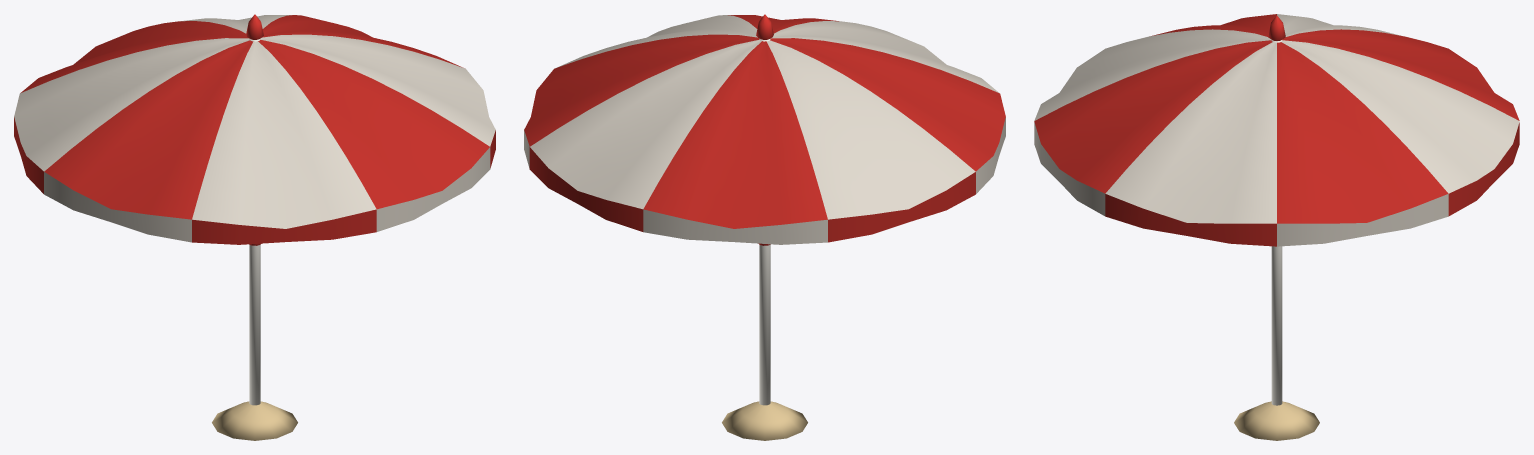
Rendered from umbrella.glb.
3 renders of one model, left to right at view 1: azimuth 30°, elevation 25°; view 2: azimuth 150°, elevation 25°; view 3: azimuth 270°, elevation 25°, orthographic.
Parts seen in each view (by area): view 1: umbrella_mesh; view 2: umbrella_mesh; view 3: umbrella_mesh.
Boxes of the visible parts, box(x1,y1,x2,y2) form: umbrella_mesh: box(14, 14, 495, 440); umbrella_mesh: box(524, 14, 1005, 440); umbrella_mesh: box(1034, 14, 1519, 440).
Bounding box in the file's own units: 2.7 × 2.5 × 2.7.
